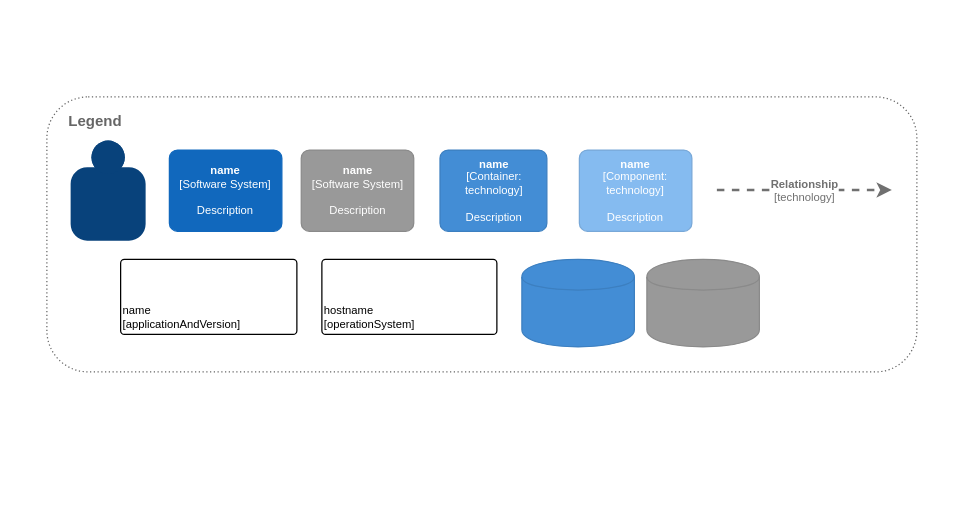
Some shapes in this 968 by 518 pixel diagram are drawn without their labels. Each missing label, with the centre of its shape:
"Database [Container: Technology] Description" belongs at (577,302).
"Database [Container: Technology] External" belongs at (702,302).
"name [Person] Description" belongs at (107,190).
